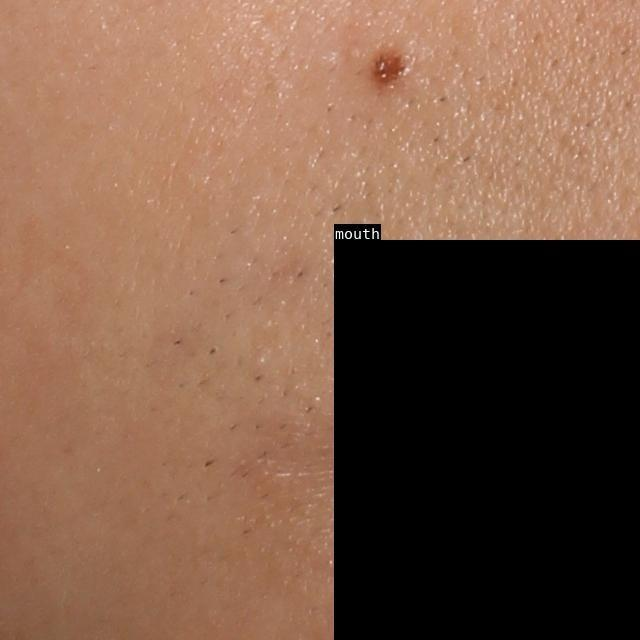nevus: (369, 44, 408, 89)
